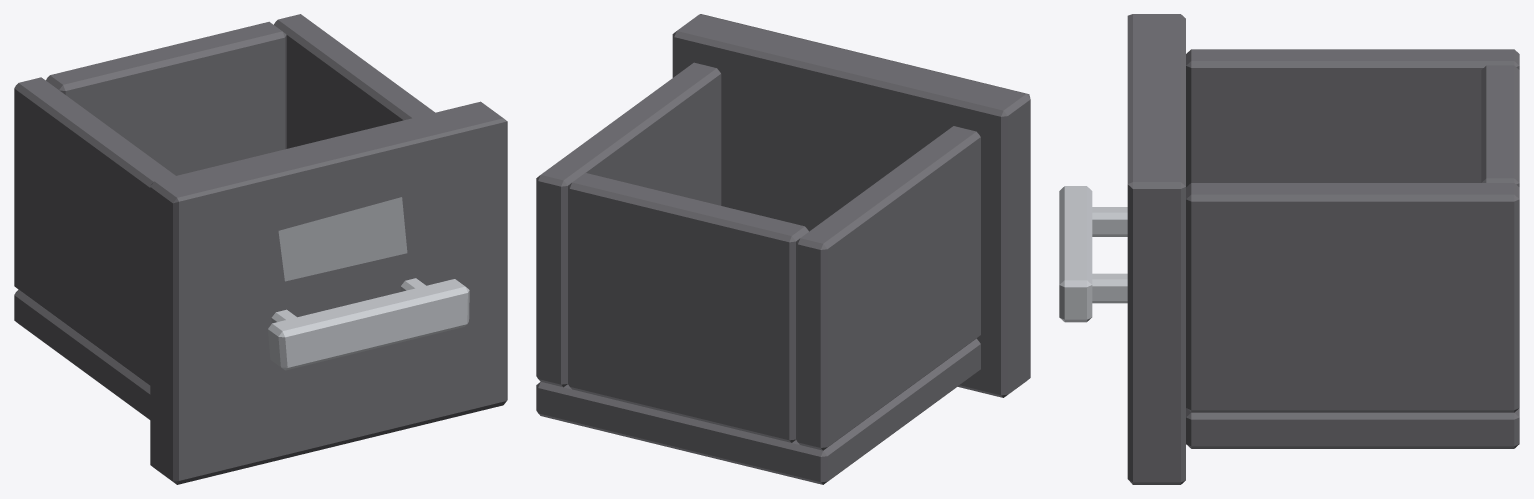
File: Shelving_4_box_2.fbx
The picture shows the model from 3 angles, left to right: view 1: azimuth 30°, elevation 25°; view 2: azimuth 150°, elevation 25°; view 3: azimuth 270°, elevation 25°; orthographic projection. The views are drawn at different scales.
Parts seen in each view (by area): view 1: Shelving_4_box_2; view 2: Shelving_4_box_2; view 3: Shelving_4_box_2.
Part boxes in pixels (x1,y1,x2,y2): Shelving_4_box_2: (14,14,507,484); Shelving_4_box_2: (536,14,1030,484); Shelving_4_box_2: (1059,14,1519,484).
Size of the model in its own units: 0.3336 by 0.2733 by 0.3762.
